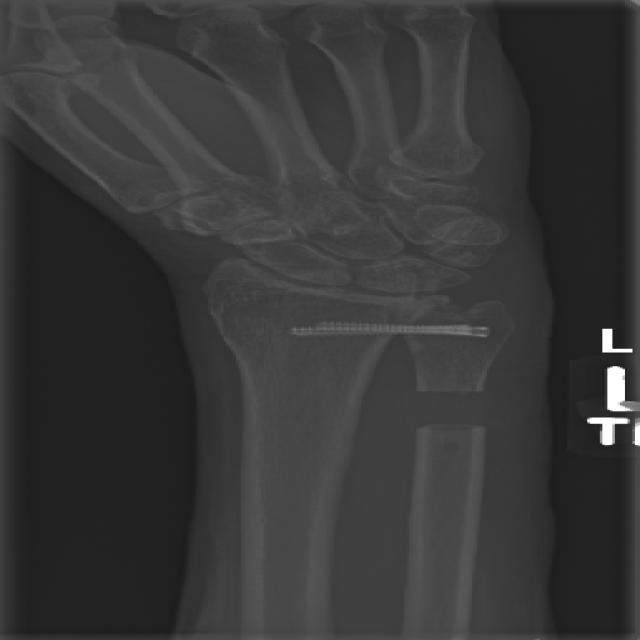wrist positive: (353, 292, 538, 329)
